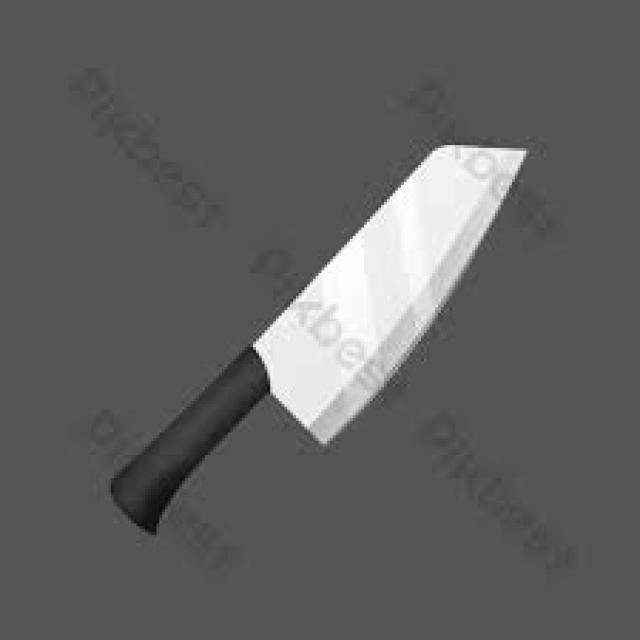Knife: (111, 148, 526, 532)
